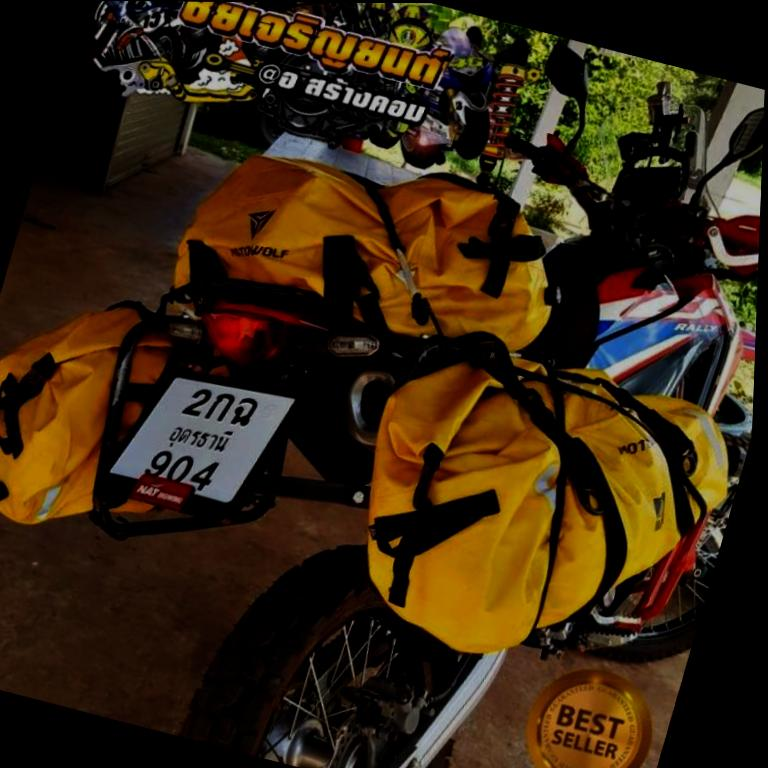license plate: (100, 341, 313, 532)
